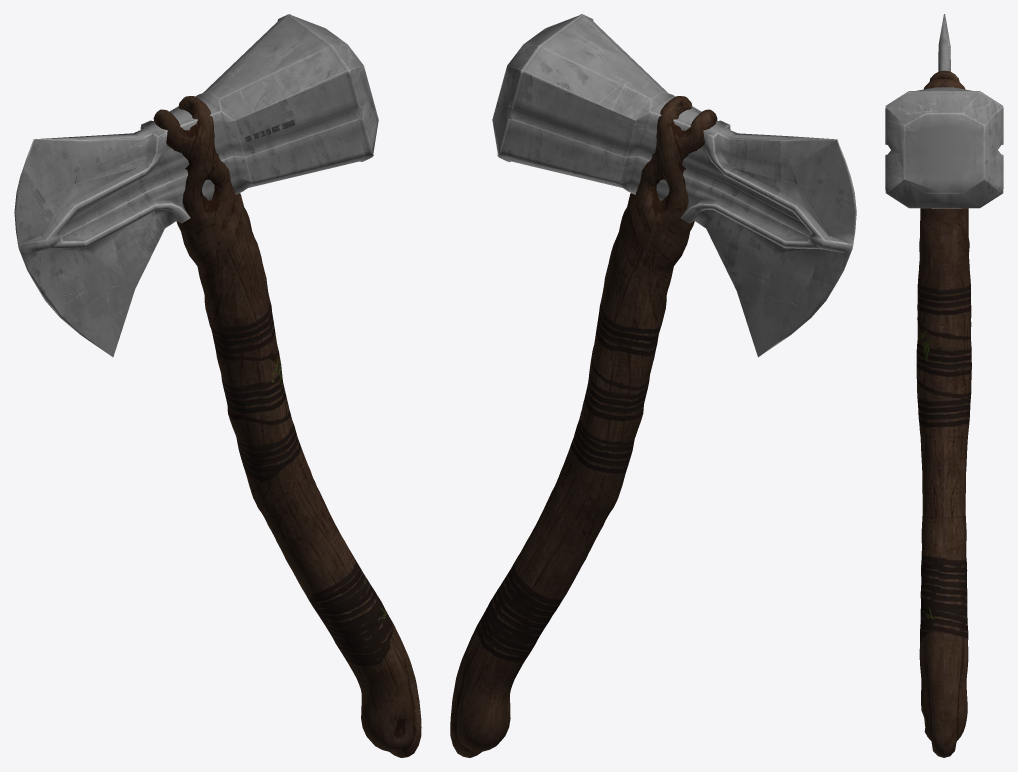
Rendered from stormbreaker.glb.
3 renders of one model, left to right at view 1: azimuth 30°, elevation 25°; view 2: azimuth 150°, elevation 25°; view 3: azimuth 270°, elevation 25°, orthographic. The views are drawn at different scales.
Parts seen in each view (by area): view 1: head_defaultMat_0, handlelp_02 - Default_0; view 2: head_defaultMat_0, handlelp_02 - Default_0; view 3: handlelp_02 - Default_0, head_defaultMat_0.
Boxes of the visible parts, x1=… form: head_defaultMat_0: x1=14, y1=14, x2=378, y2=357; handlelp_02 - Default_0: x1=153, y1=96, x2=421, y2=757; head_defaultMat_0: x1=492, y1=14, x2=856, y2=357; handlelp_02 - Default_0: x1=450, y1=96, x2=717, y2=757; handlelp_02 - Default_0: x1=916, y1=70, x2=971, y2=757; head_defaultMat_0: x1=885, y1=14, x2=1003, y2=208.
Size of the model in its own units: 164 by 290 by 49.55.
Materials: 2 (2 with a texture image).
